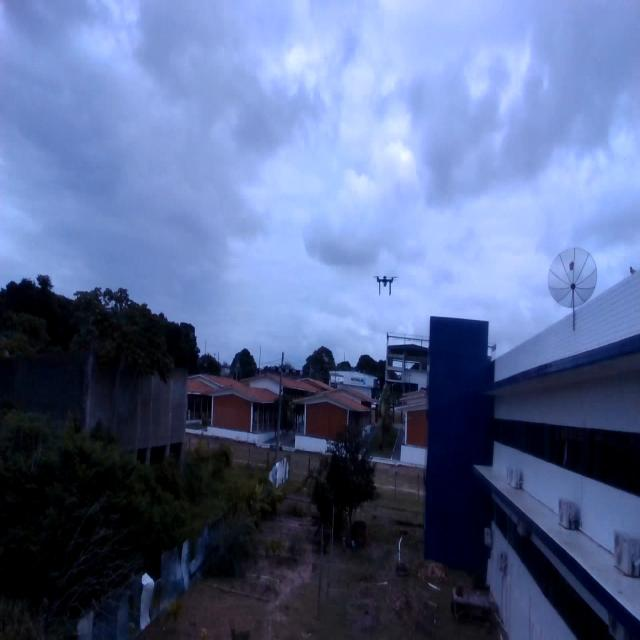-uav-: (372, 265, 401, 302)
